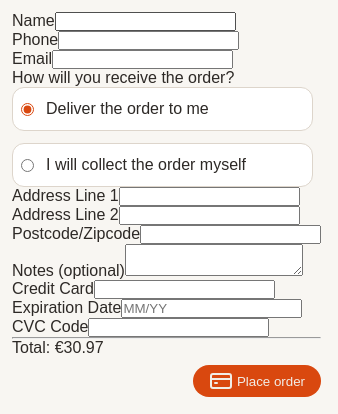
CheckoutForm › displays an error when checkout fails
The image size is (338, 414).
Type "Kerry Ann" into the field labelled "Name" at (145, 22), box top-left (55, 12), bottom-right (236, 31)
Type "0871234567" into the field labelled "Phone" at (149, 40), box top-left (58, 31), bottom-right (239, 50)
Type "kerry@example.com" into the field labelled "Email" at (142, 60), box top-left (52, 50), bottom-right (233, 69)
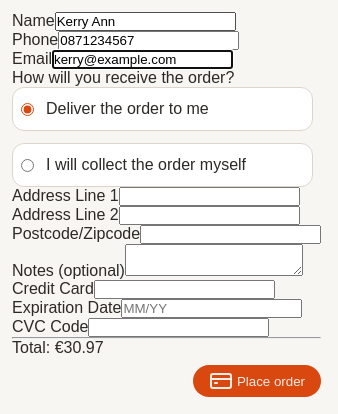
Click the radio button with test id "fulfilment-fields-radio-collection" at (28, 165), box top-left (21, 158), bottom-right (34, 172)
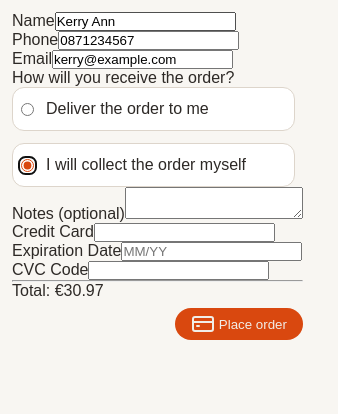
Expected: the radio button with test id "fulfilment-fields-radio-delivery" is shown, top-left (21, 102), bottom-right (34, 116)
Type "4242424242424242" into the field labelled "Credit Card" at (184, 232), box top-left (94, 223), bottom-right (275, 242)
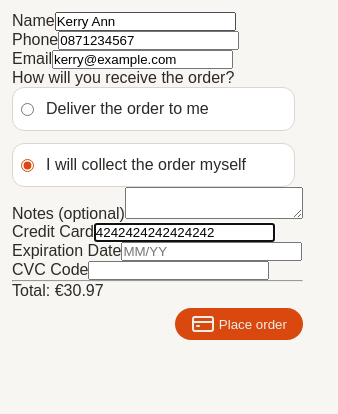
Type "12/30" into the field labelled "Expiration Date" at (212, 252), box top-left (121, 242), bottom-right (302, 261)
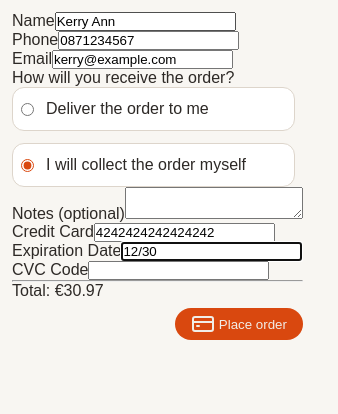
Type "123" into the field labelled "CVC Code" at (179, 270), box top-left (88, 261), bottom-right (270, 280)
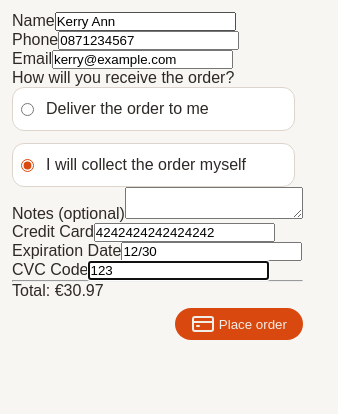
Click the button "Place order" at (239, 324), box top-left (175, 308), bottom-right (303, 340)
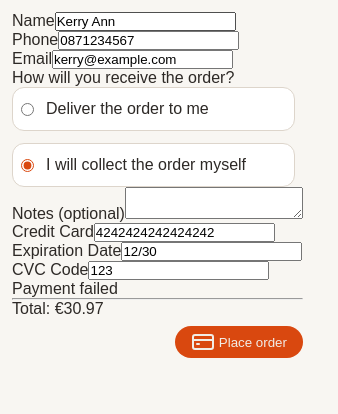
Now the message reads "Payment failed", box top-left (12, 280), bottom-right (118, 297)
